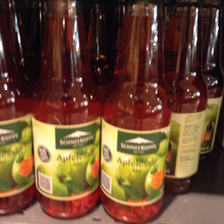vinegar: (25, 3, 102, 218), (102, 3, 168, 224), (1, 2, 36, 217)
